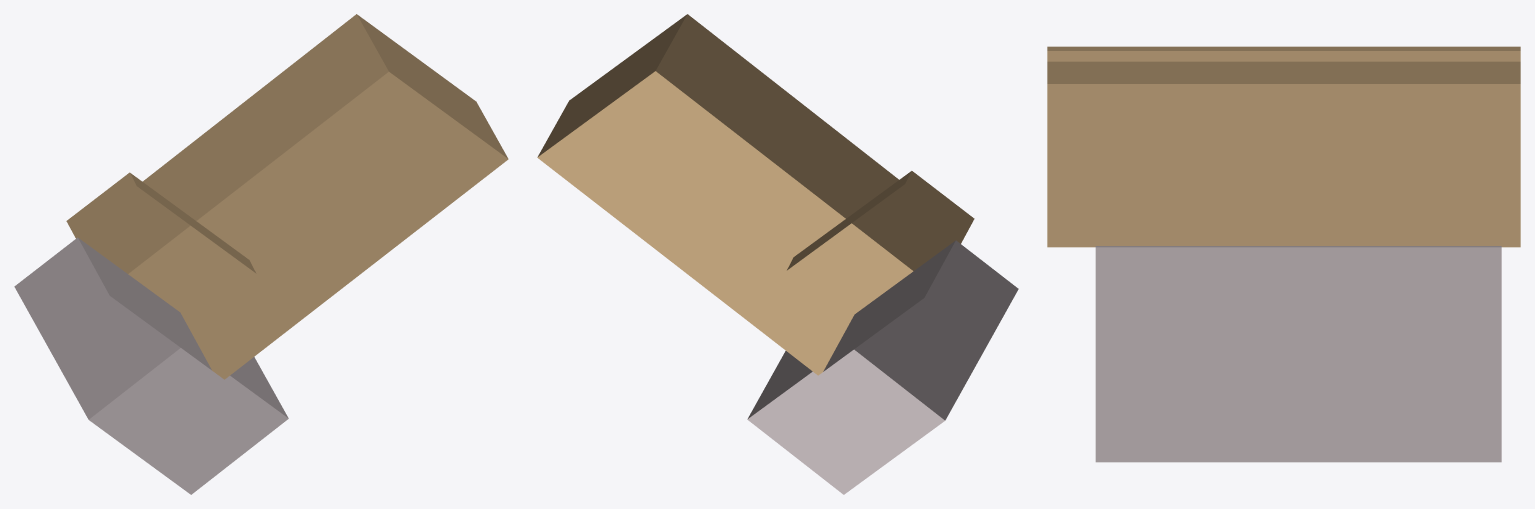
3 renders of one model, left to right at view 1: azimuth 30°, elevation 25°; view 2: azimuth 150°, elevation 25°; view 3: azimuth 270°, elevation 25°, orthographic. The views are drawn at different scales.
Visible parts, largest first — view 1: 0_3_2_3_1_1_1_1_2; view 2: 0_3_2_3_1_1_1_1_2; view 3: 0_3_2_3_1_1_1_1_2.
Part boxes in pixels (<box>): 0_3_2_3_1_1_1_1_2: <box>14,14,508,494</box>; 0_3_2_3_1_1_1_1_2: <box>537,14,1018,494</box>; 0_3_2_3_1_1_1_1_2: <box>1047,46,1520,462</box>.
Bounding box in the file's own units: 38.44 × 32.5 × 21.
